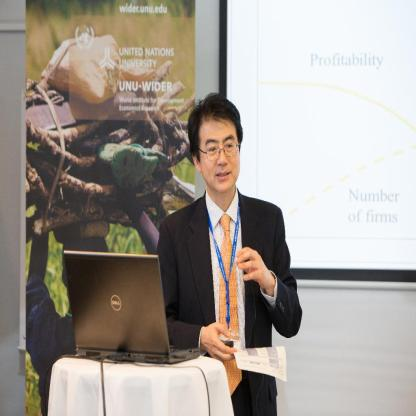board: (55, 247, 214, 400)
